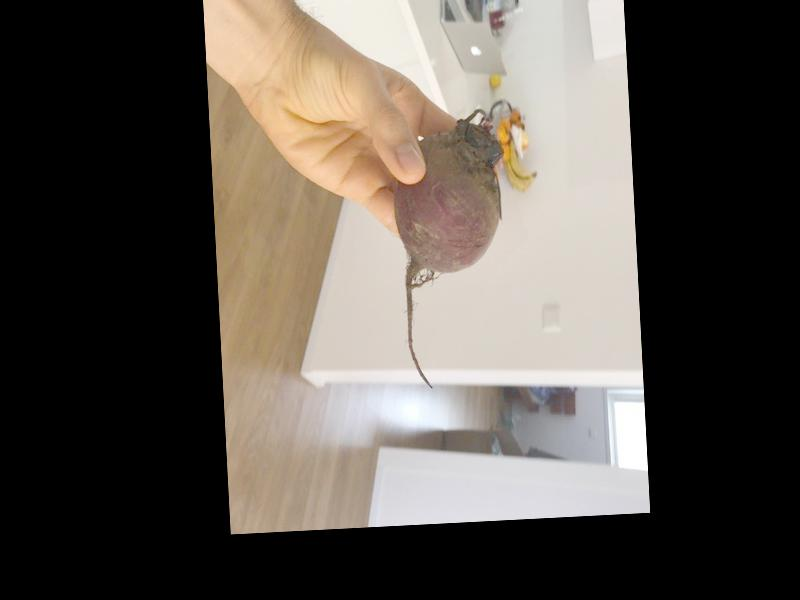Beet: (390, 109, 513, 390)
